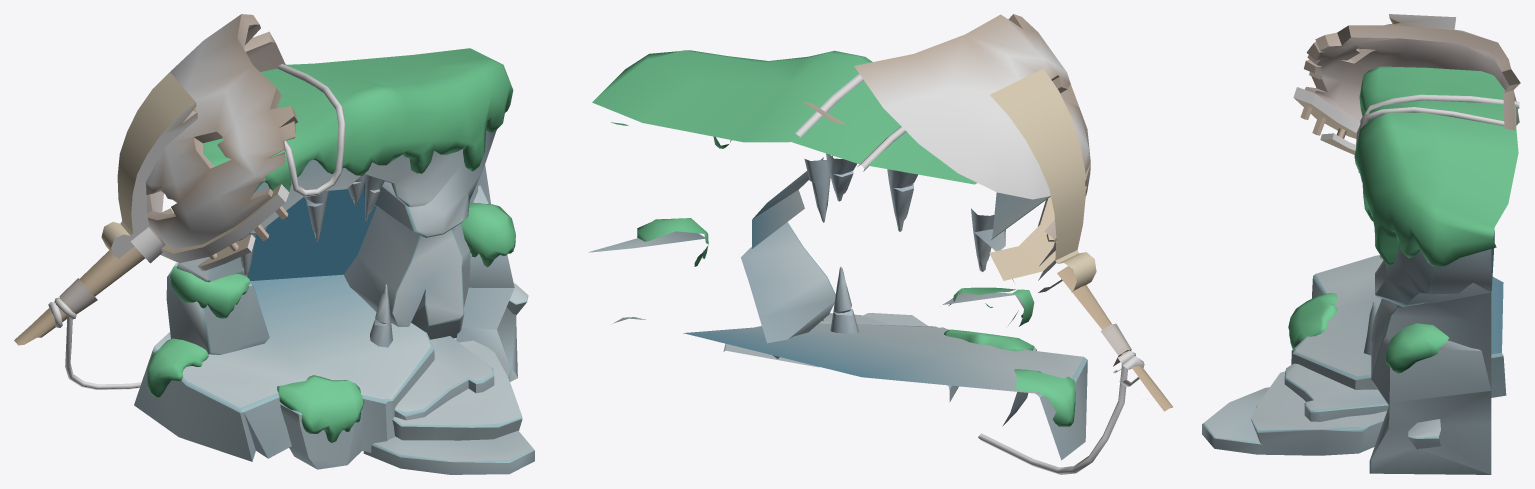
The model's file is caveEntrance.glb.
3 renders of one model, left to right at view 1: azimuth 30°, elevation 25°; view 2: azimuth 150°, elevation 25°; view 3: azimuth 270°, elevation 25°, orthographic. The views are drawn at different scales.
Parts seen in each view (by area): view 1: caveEntrance; view 2: caveEntrance; view 3: caveEntrance.
Part boxes in pixels (left/top/right/bottom): caveEntrance: left=14, top=14, right=534, bottom=474; caveEntrance: left=588, top=14, right=1172, bottom=474; caveEntrance: left=1202, top=14, right=1520, bottom=474.
Bounding box in the file's own units: 10.72 × 7.57 × 6.35.
